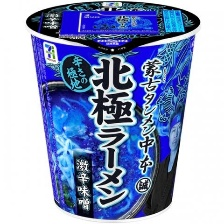paper_cup: (19, 0, 205, 224)
